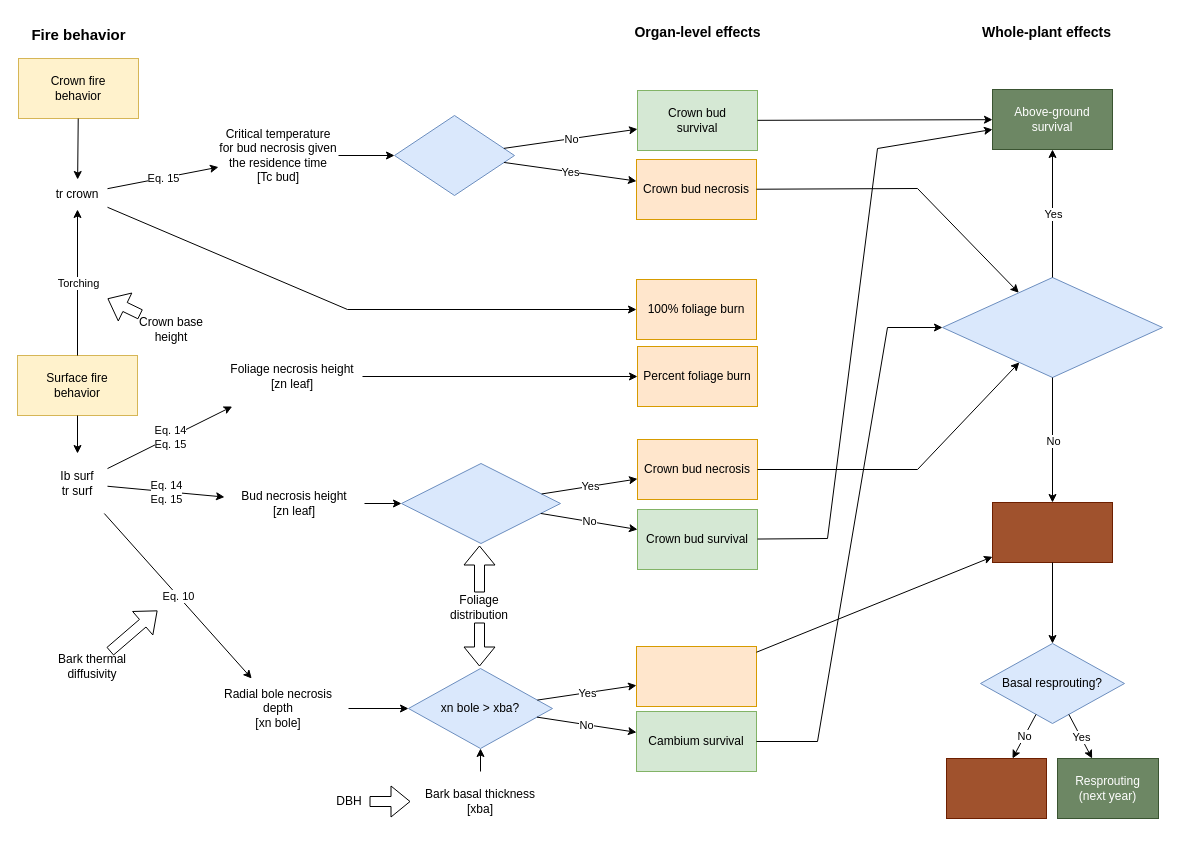
The diagram is 1180 pixels wide and 848 high, and some of its shapes have lost their labels. The centre of each missing label's shape, as x and y in pixels:
"Above-ground mortality" belongs at (x=1052, y=532).
"Cambium necrosis" belongs at (x=696, y=676).
"Crown bud necrosis BUT cambium survival AND epicormic resprouting?" belongs at (x=1052, y=327).
"Plant mortality" belongs at (x=996, y=788).
"Tc bud < 900 ºC?" belongs at (x=454, y=155).
"zn leaf > z midcrown?" belongs at (x=480, y=503).
